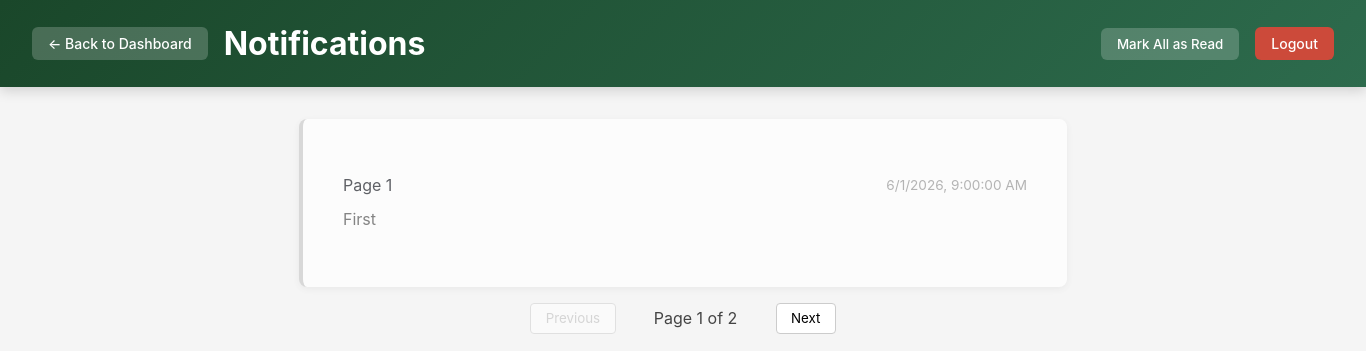
Test: NotificationPage › loads the next page when Next is clicked
expect the text "Page 1" is shown: met, box [343,175,392,195]
Click the button with test id "pagination-next".
click(806, 318)  # box [776,303,836,334]
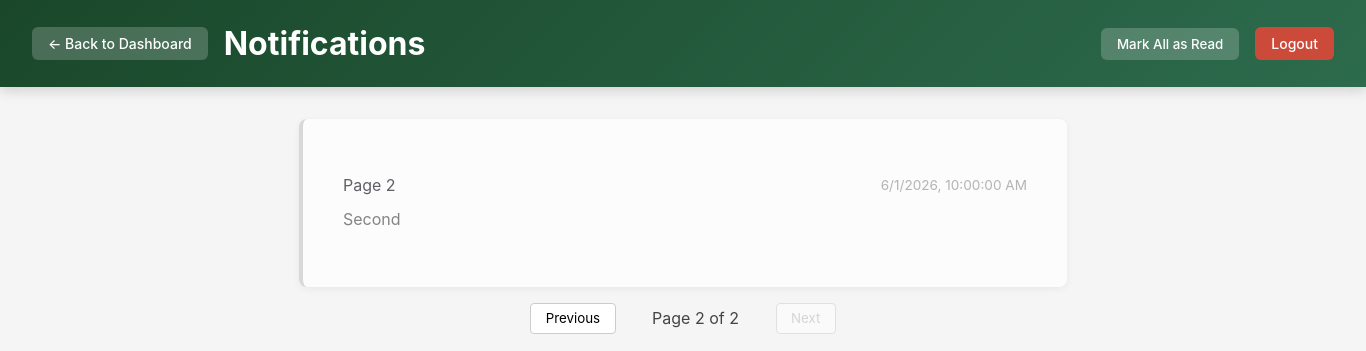
expect the text "Page 2" is shown: met, box [343,175,396,195]
